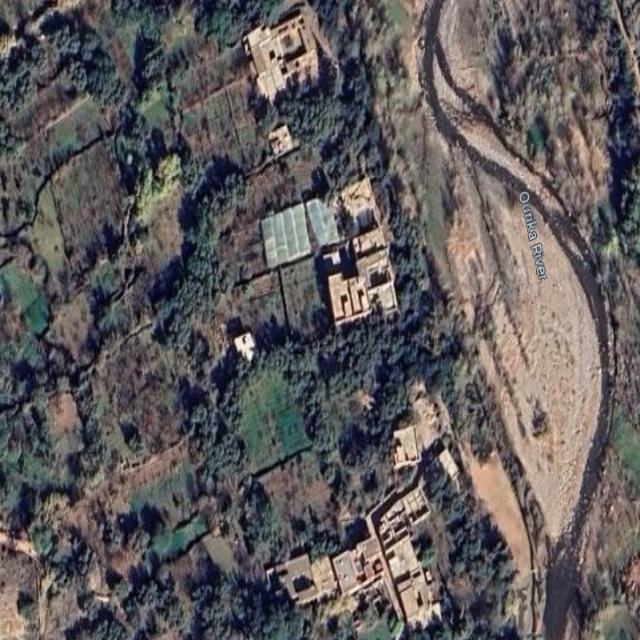Countryside roofs: (228, 10, 326, 117), (268, 544, 338, 624), (326, 534, 381, 615), (378, 573, 452, 628), (372, 482, 434, 546), (321, 260, 376, 327), (336, 174, 390, 237), (358, 248, 402, 307), (383, 419, 428, 469), (385, 550, 436, 582), (259, 125, 297, 158)
